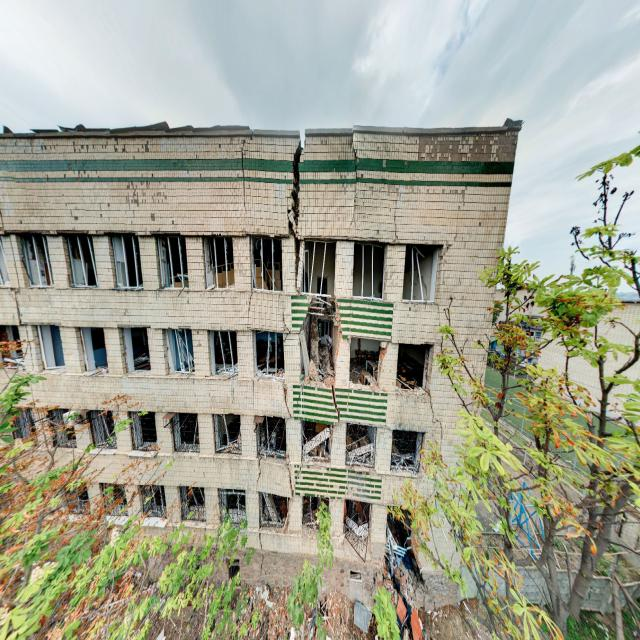broken_window: (402, 244, 439, 303), (302, 239, 336, 300), (155, 232, 188, 291), (352, 240, 384, 300), (110, 232, 142, 291), (202, 234, 235, 291), (64, 233, 98, 288), (250, 235, 282, 292), (19, 233, 52, 288), (348, 336, 382, 389), (396, 342, 429, 392), (390, 429, 423, 474), (164, 327, 194, 375), (254, 329, 284, 377), (254, 415, 286, 459), (345, 423, 376, 468), (209, 329, 238, 377), (79, 326, 108, 374), (37, 323, 65, 371), (122, 325, 150, 373), (213, 412, 241, 455), (171, 412, 200, 453), (130, 409, 157, 452)
building: (0, 118, 525, 614)
